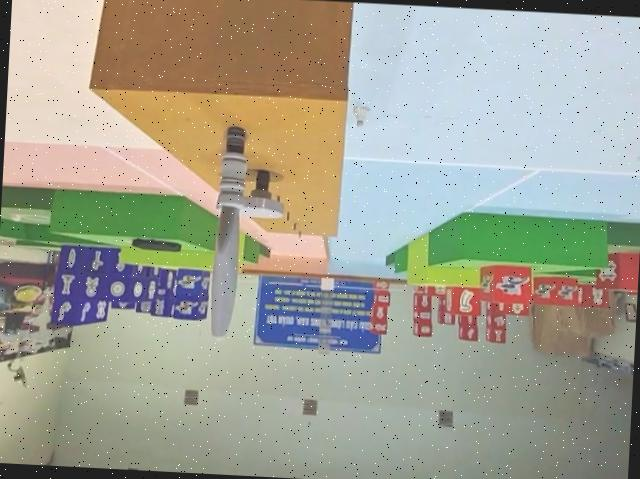Hand: (240, 166, 289, 224)
Sph: (211, 123, 250, 340)
